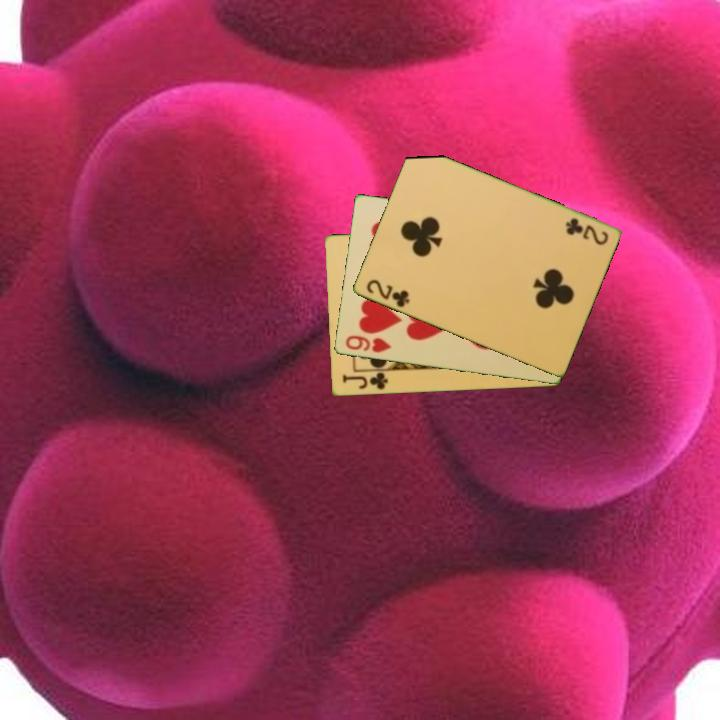2c: (362, 276, 412, 311), (561, 214, 611, 248)
9h: (342, 332, 394, 356)
Jc: (339, 368, 392, 392)
